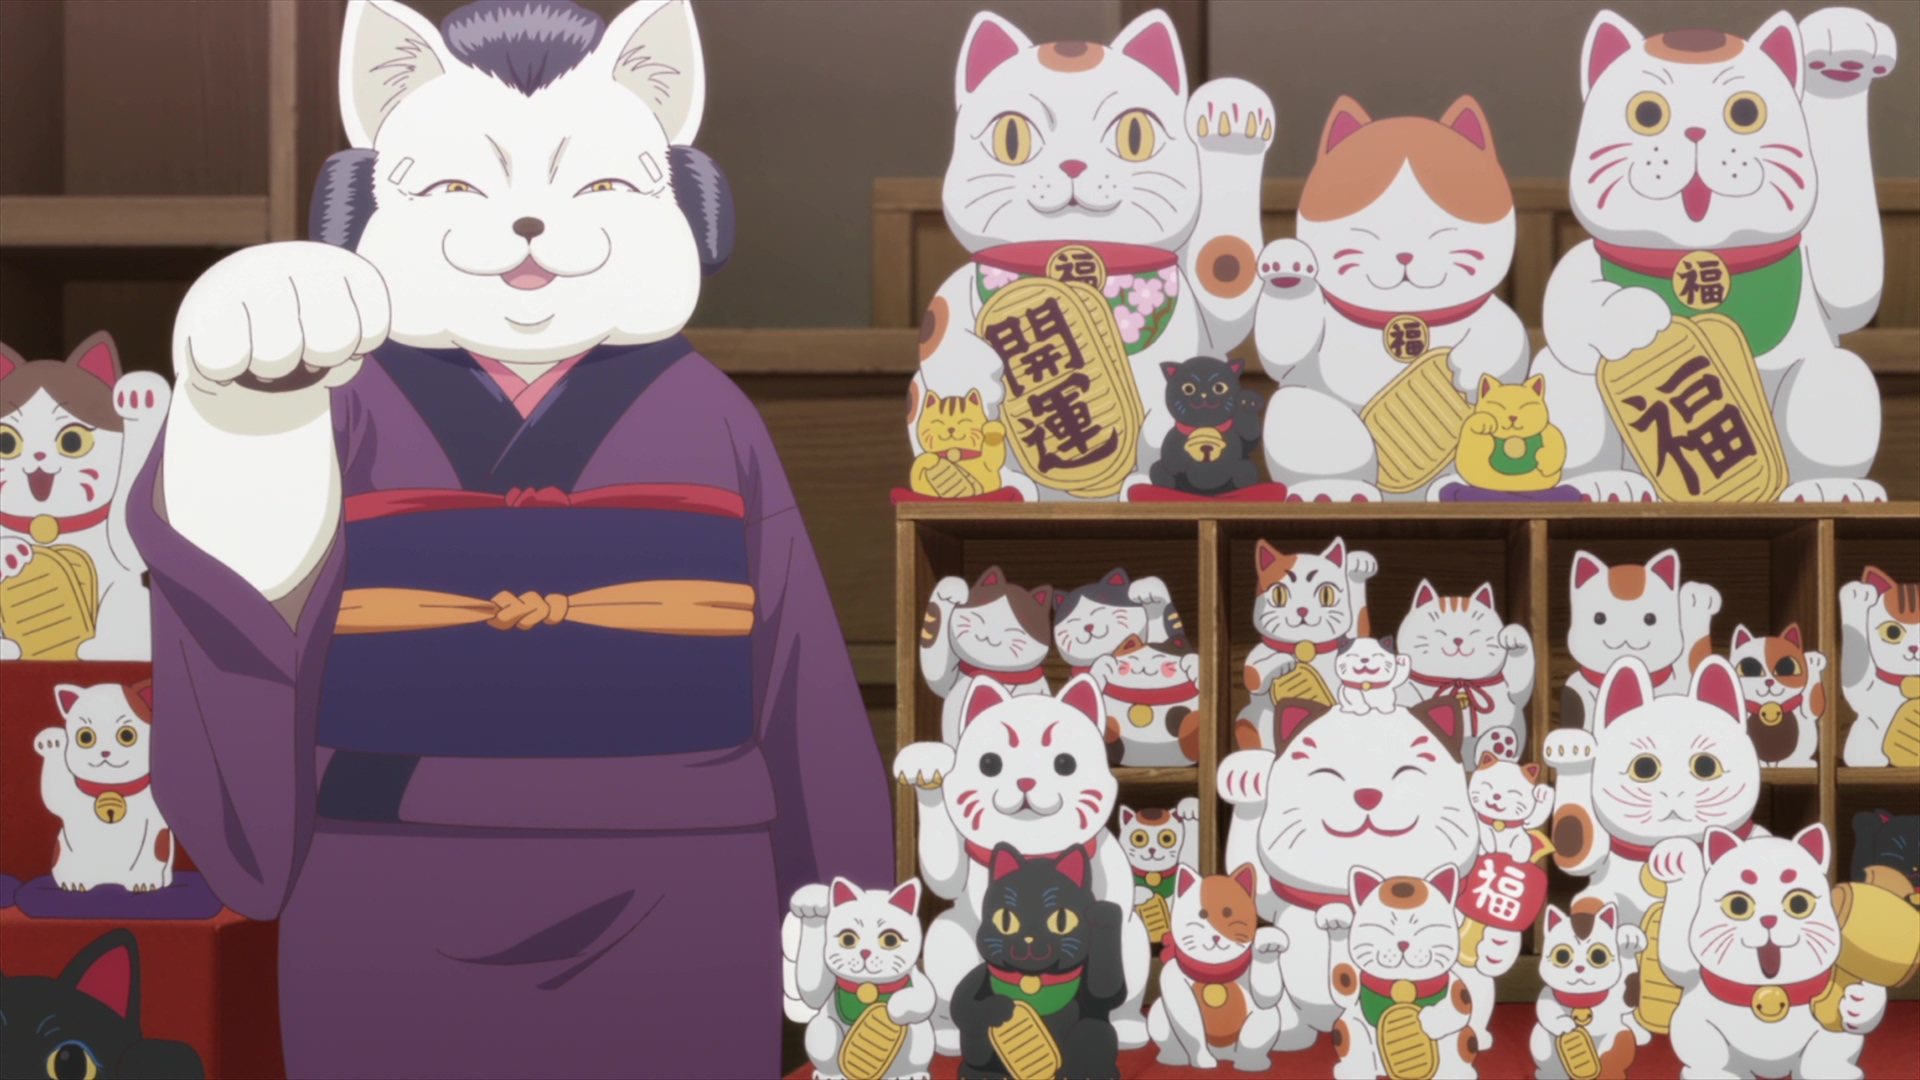其他: (145, 1, 895, 1080)
